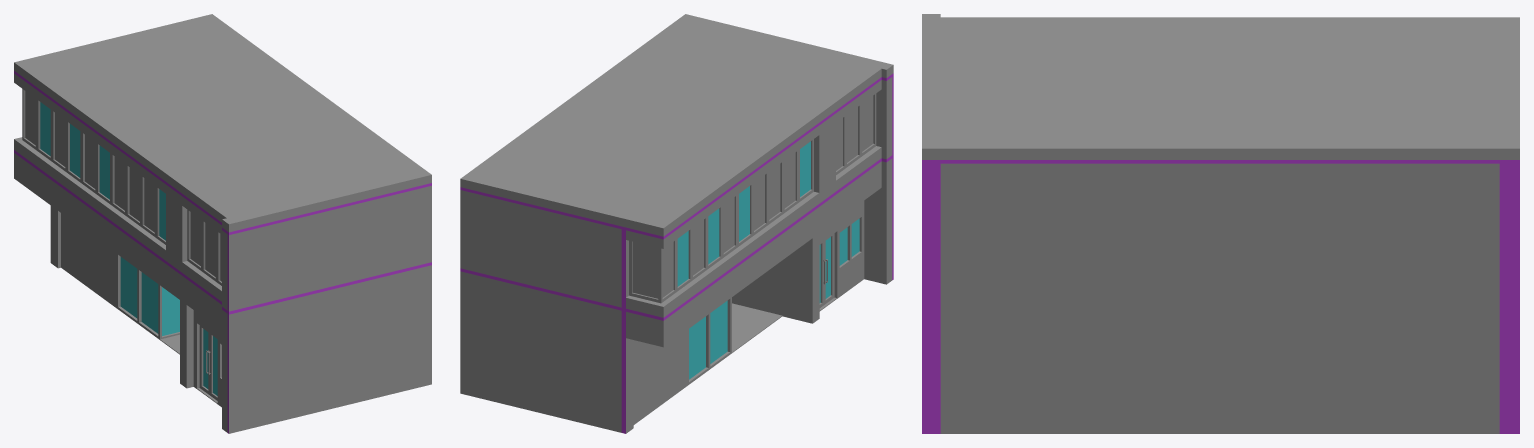
File: buildings_S_08_VAR3 1.fbx
3 views of the same model, side by side, from view 1: azimuth 30°, elevation 25°; view 2: azimuth 150°, elevation 25°; view 3: azimuth 270°, elevation 25° (orthographic). The views are drawn at different scales.
Parts seen in each view (by area): view 1: buildings_S_08_VAR3; view 2: buildings_S_08_VAR3; view 3: buildings_S_08_VAR3.
Boxes of the visible parts, x1=… form: buildings_S_08_VAR3: x1=14, y1=14, x2=431, y2=433; buildings_S_08_VAR3: x1=460, y1=14, x2=893, y2=433; buildings_S_08_VAR3: x1=922, y1=14, x2=1519, y2=433.
Size of the model in its own units: 7.89 by 7.79 by 14.79.
